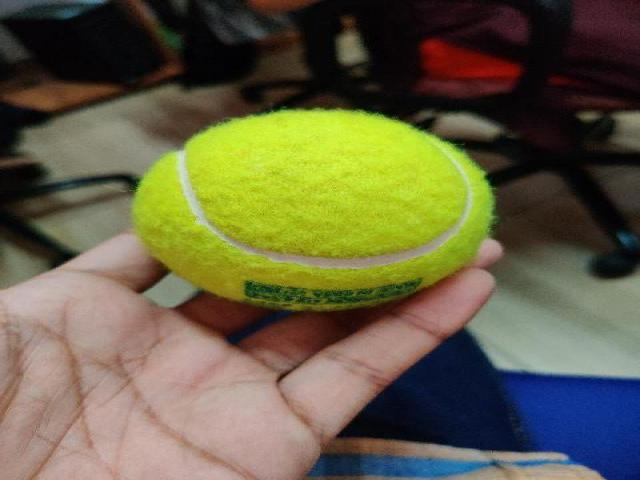tennis-ball: (133, 111, 491, 310)
